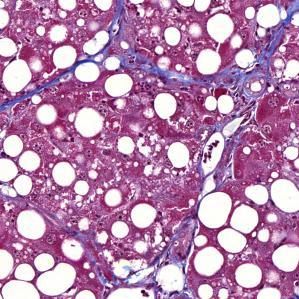fibrosis: (140, 58, 269, 99)
